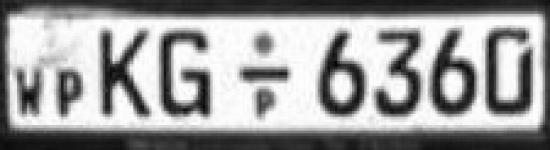-: (235, 62, 292, 84)
0: (481, 20, 538, 124)
3: (368, 24, 425, 120)
6: (311, 24, 369, 122), (428, 25, 480, 122)
G: (156, 22, 217, 124)
K: (94, 20, 156, 121)
P: (55, 64, 85, 118)
W: (13, 63, 48, 122)
